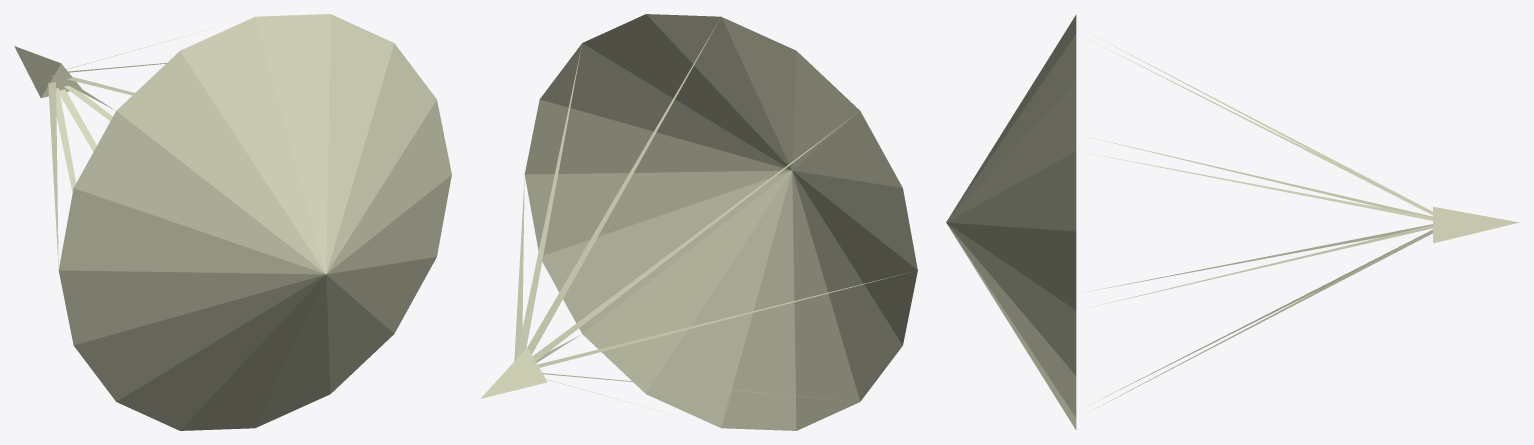
File: shape_014_SVN_Custom_Aircraft_014.glb
3 views of the same model, side by side, from view 1: azimuth 30°, elevation 25°; view 2: azimuth 150°, elevation 25°; view 3: azimuth 270°, elevation 25° (orthographic). The views are drawn at different scales.
Visible parts, largest first — view 1: Parachute; view 2: Parachute; view 3: Parachute.
Boxes of the visible parts, x1=… form: Parachute: x1=14, y1=14, x2=451, y2=430; Parachute: x1=480, y1=14, x2=917, y2=430; Parachute: x1=946, y1=14, x2=1519, y2=430.
Bounding box in the file's own units: 96 × 96 × 132.
